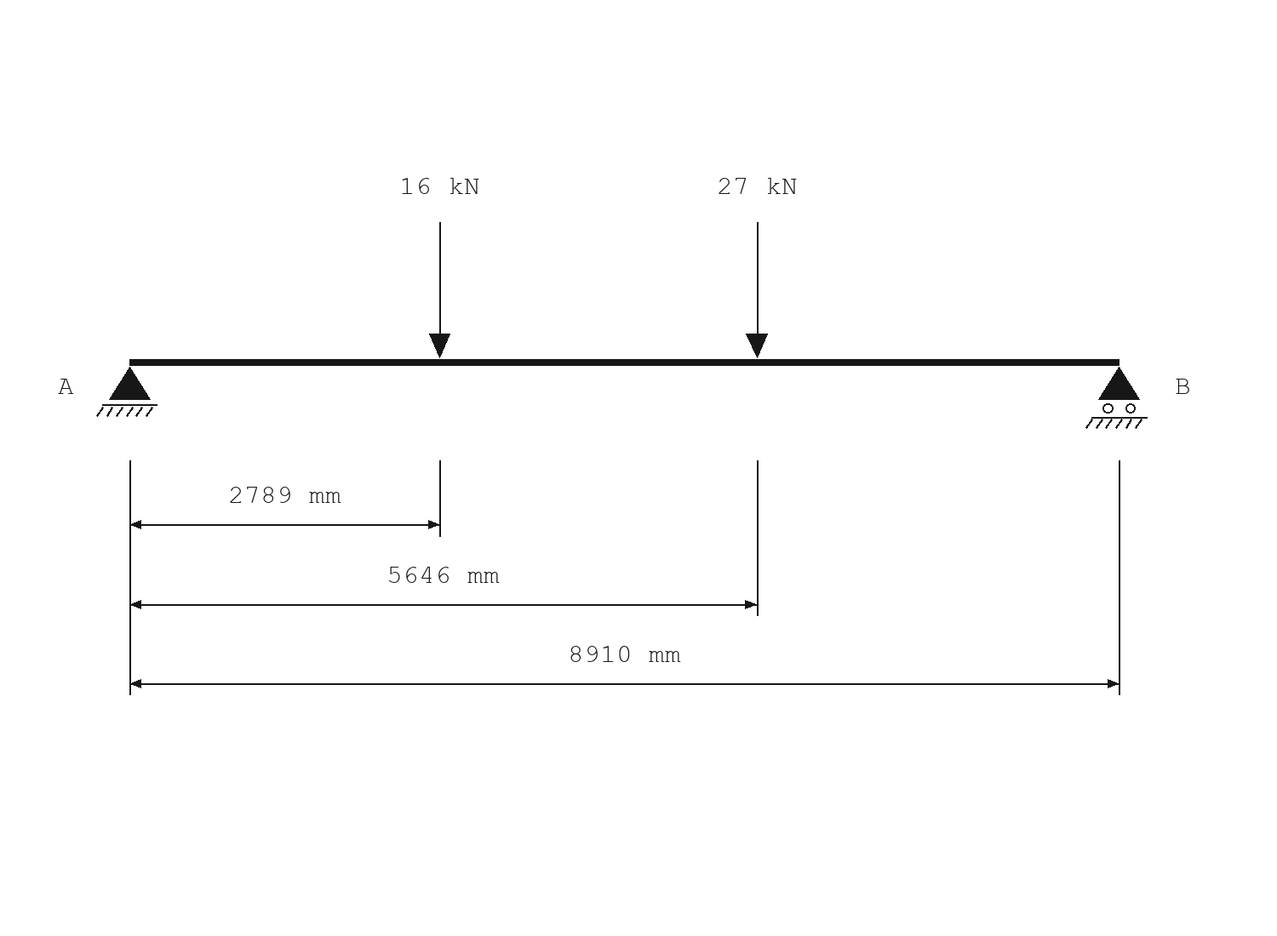pin_support: (96, 367, 157, 417)
point_load: (746, 222, 768, 358), (429, 222, 450, 358)
roller_support: (1085, 367, 1148, 429)
